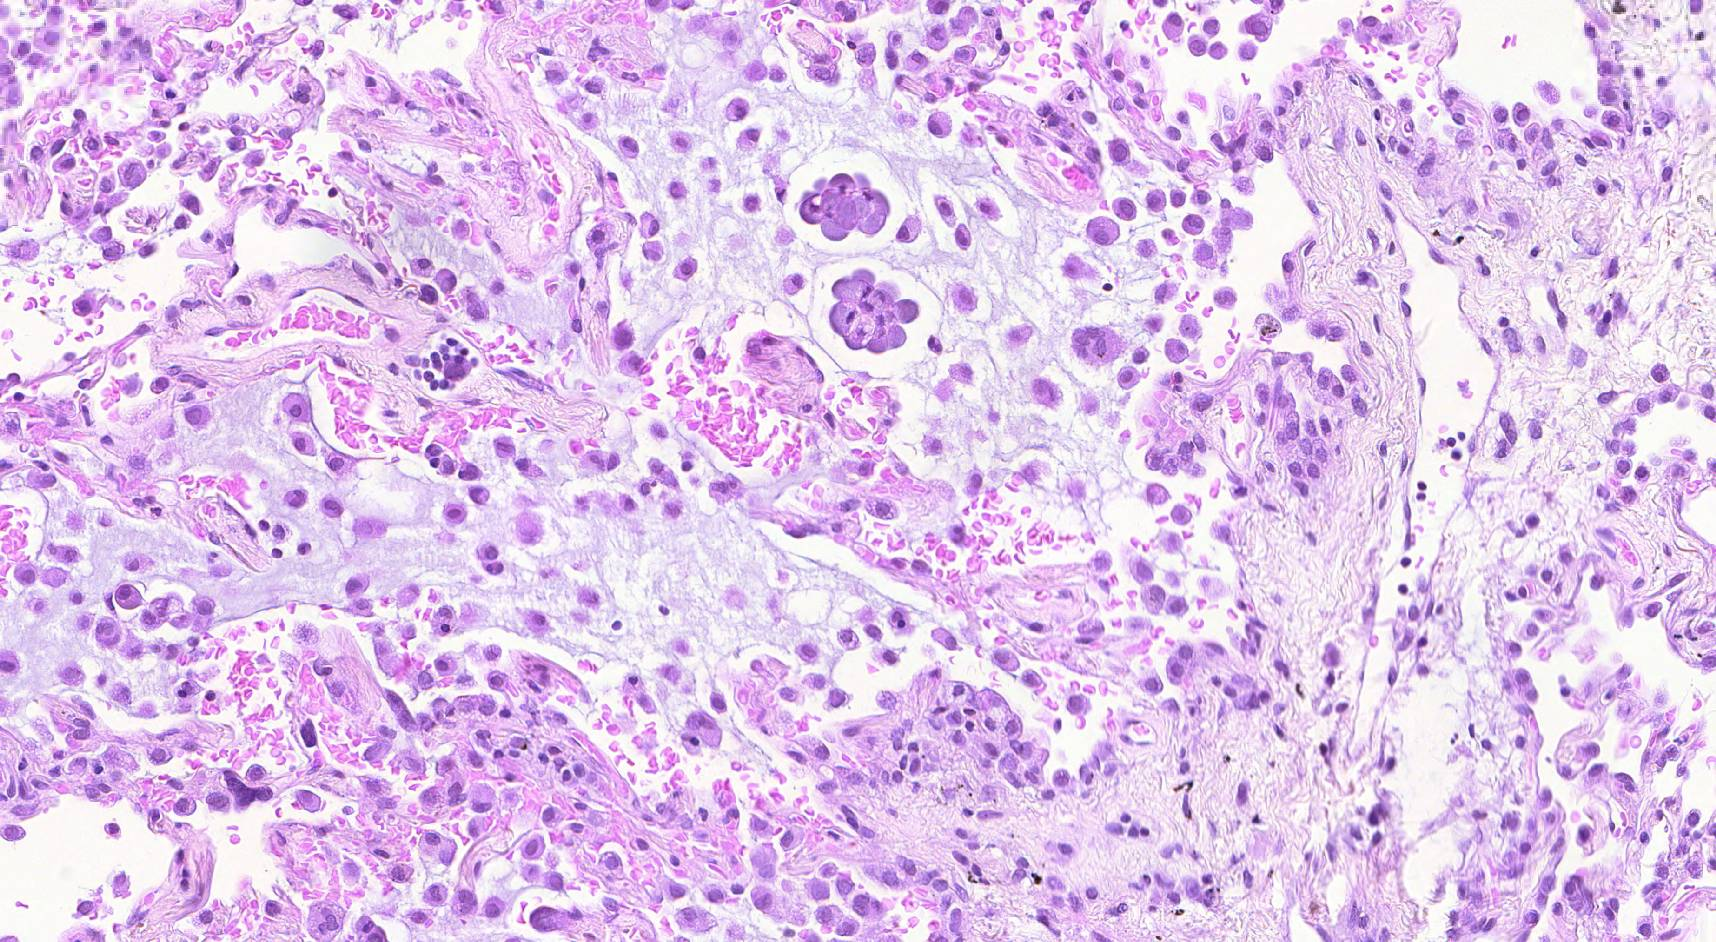stas: (831, 268, 917, 354), (797, 171, 895, 239)
